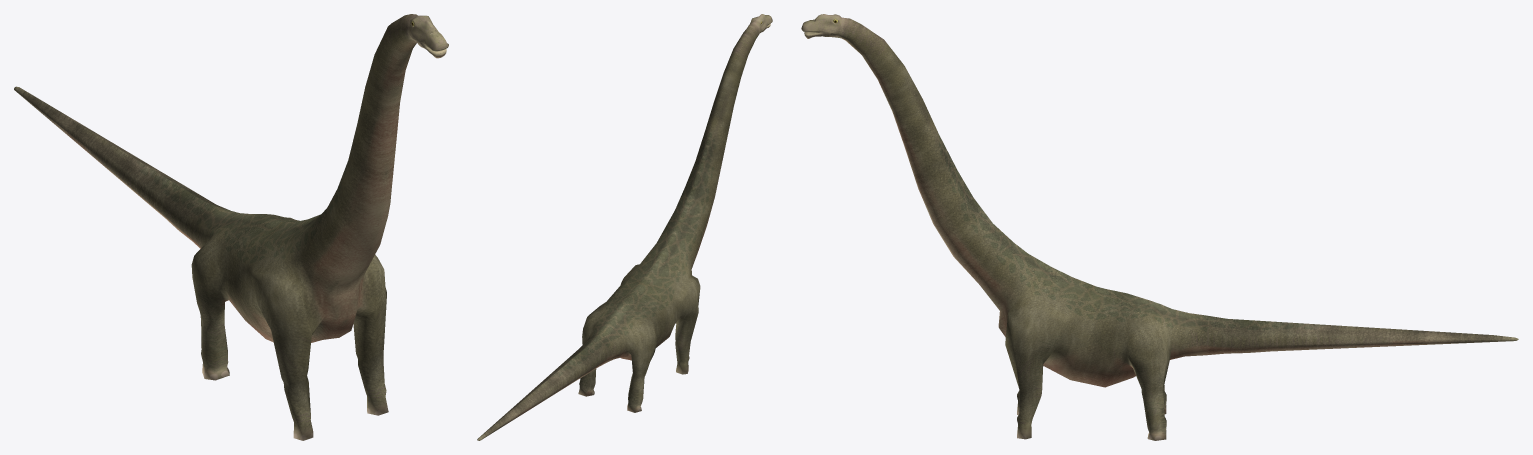
The picture shows the model from 3 angles, left to right: view 1: azimuth 30°, elevation 25°; view 2: azimuth 150°, elevation 25°; view 3: azimuth 270°, elevation 25°; orthographic projection. The views are drawn at different scales.
Visible parts, largest first — view 1: Cube.011_0; view 2: Cube.011_0; view 3: Cube.011_0.
Part boxes in pixels (x1=…): Cube.011_0: x1=14, y1=14, x2=448, y2=440; Cube.011_0: x1=477, y1=14, x2=772, y2=440; Cube.011_0: x1=801, y1=14, x2=1518, y2=440.
Bounding box in the file's own units: 1.49 × 6.1 × 9.96.
Materials: 1 (1 with a texture image).
